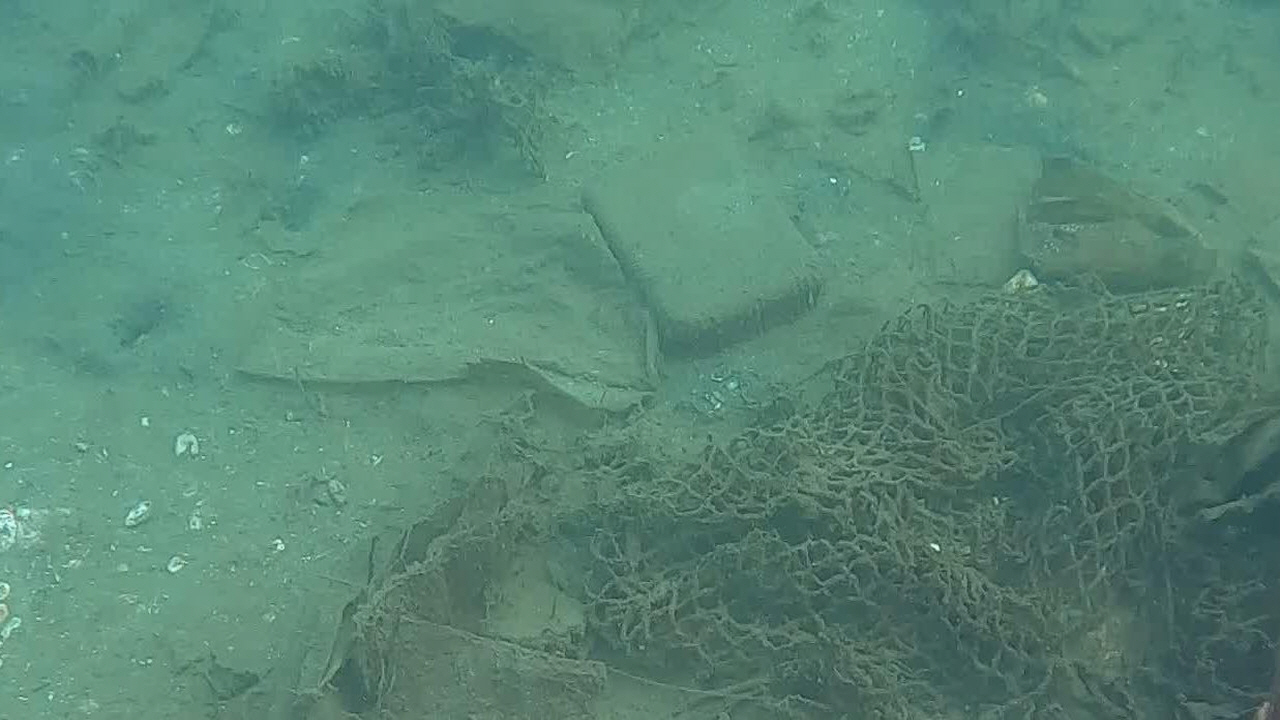fish net: (582, 271, 1280, 720)
